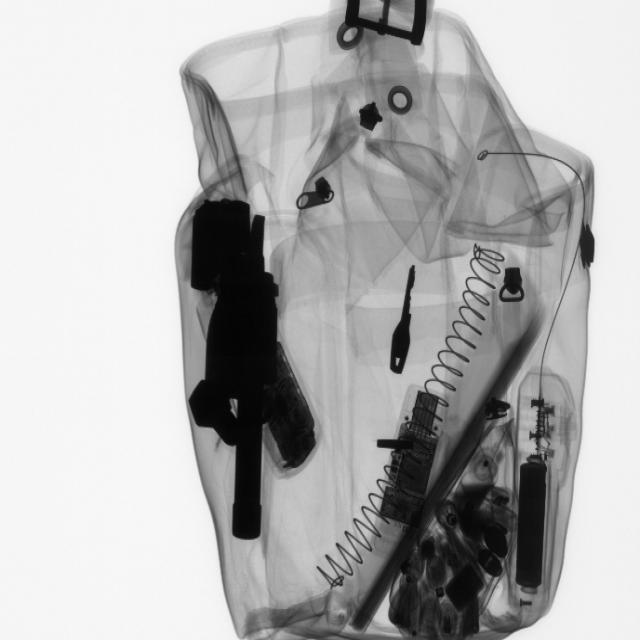GUN: (186, 194, 285, 562)
